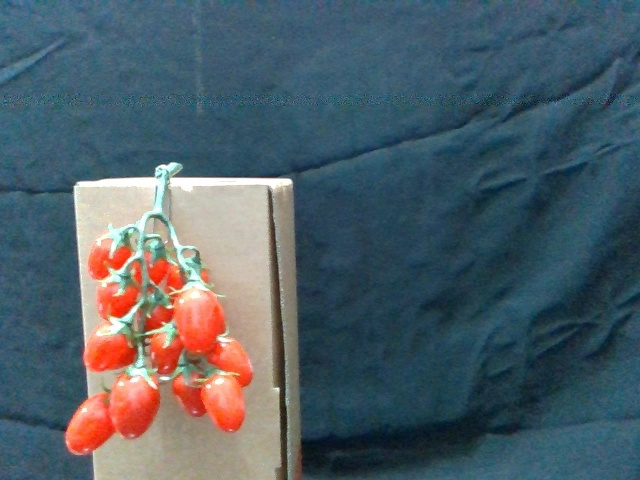tomato: (174, 278, 223, 354), (113, 368, 160, 439), (64, 393, 113, 456), (85, 318, 136, 372), (206, 371, 247, 434), (86, 226, 133, 277), (207, 336, 255, 385), (98, 269, 137, 321), (172, 365, 208, 421), (150, 320, 182, 375)
